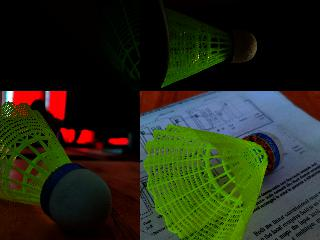shuttlecock: (143, 122, 283, 239), (0, 100, 113, 234), (164, 8, 256, 86), (94, 0, 139, 90)
